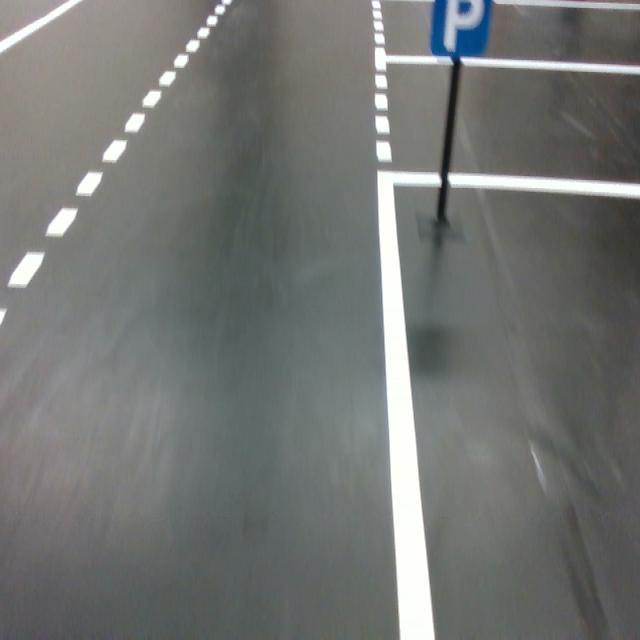parking-sign: (429, 0, 491, 57)
